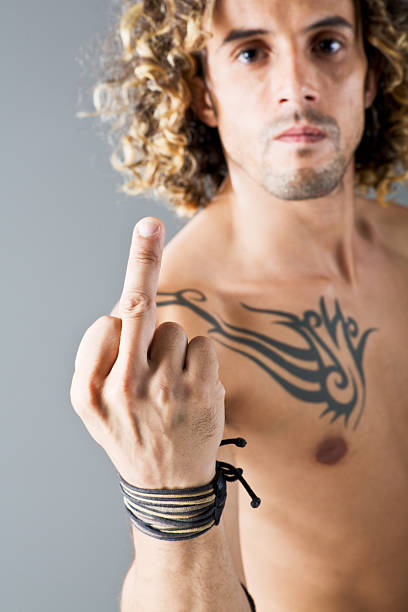insulting_gesture: (72, 212, 225, 477)
